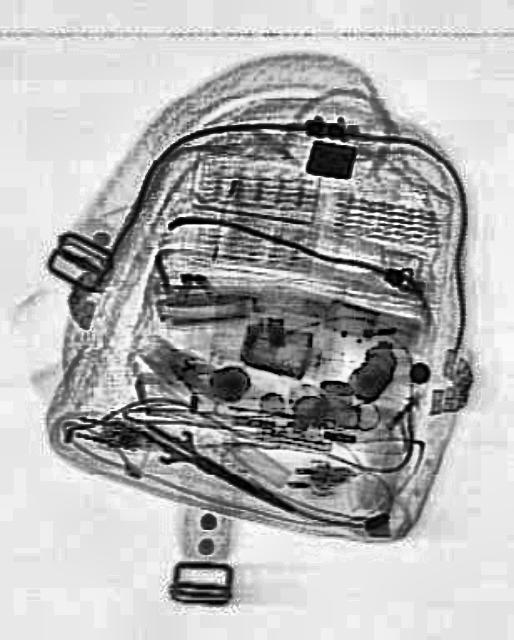Knife: (133, 409, 301, 529)
